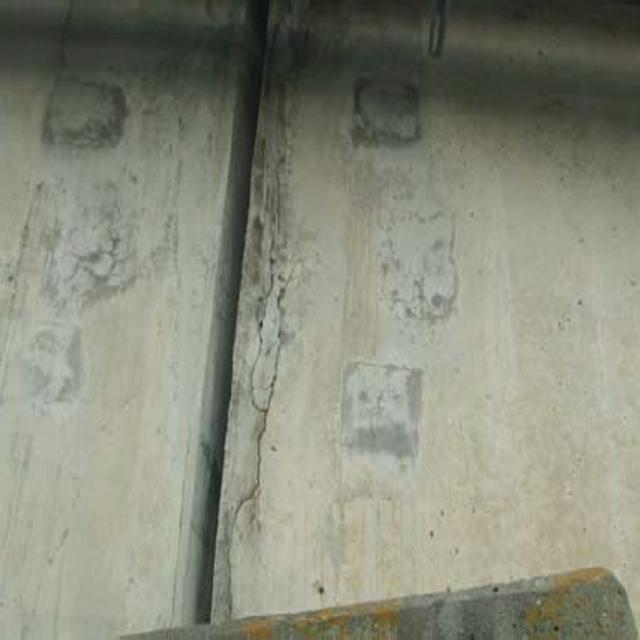crack: (227, 150, 344, 607)
